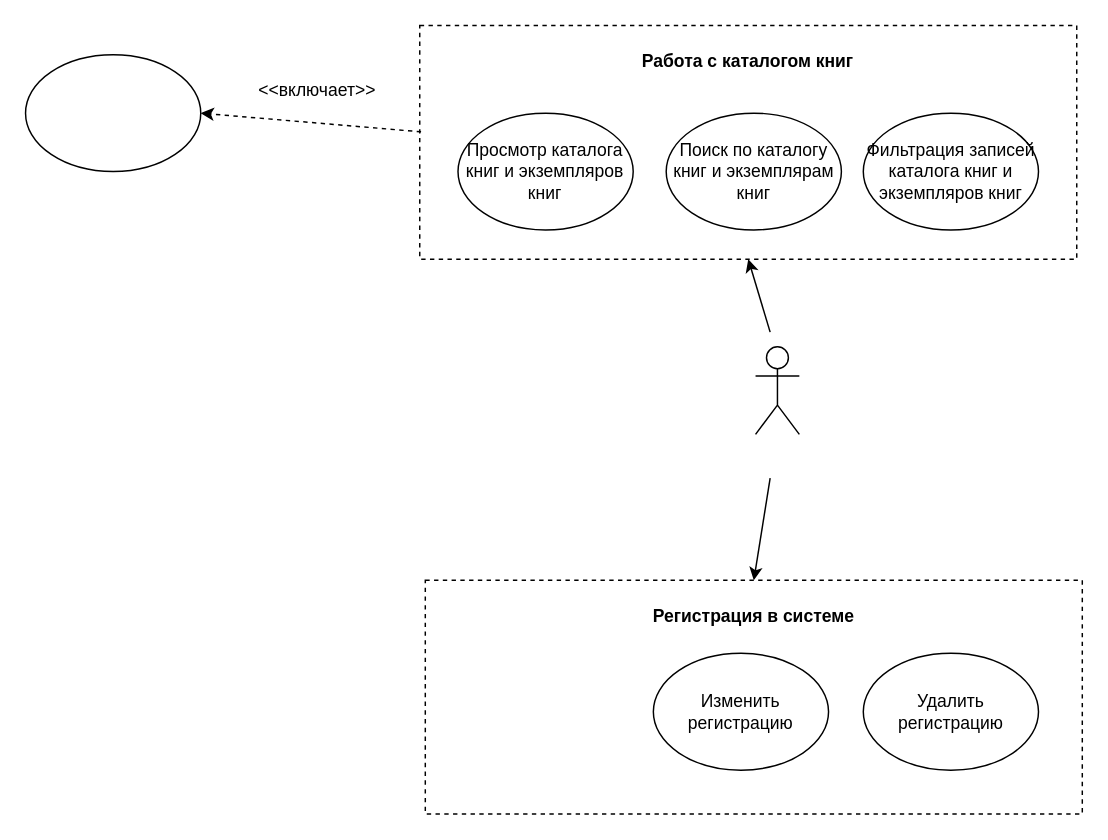
Image size: 1108x840. Some labels were removed from this diagram. The shapes that lost their labels are listed below. From the top down, each one's centre as x and y in pixels, then its label:
the point at 112,112: Упрощённая выгрузка списков в Excel для анализа
the point at 776,389: Читатель с НЕ подтверждённой регистрацией
